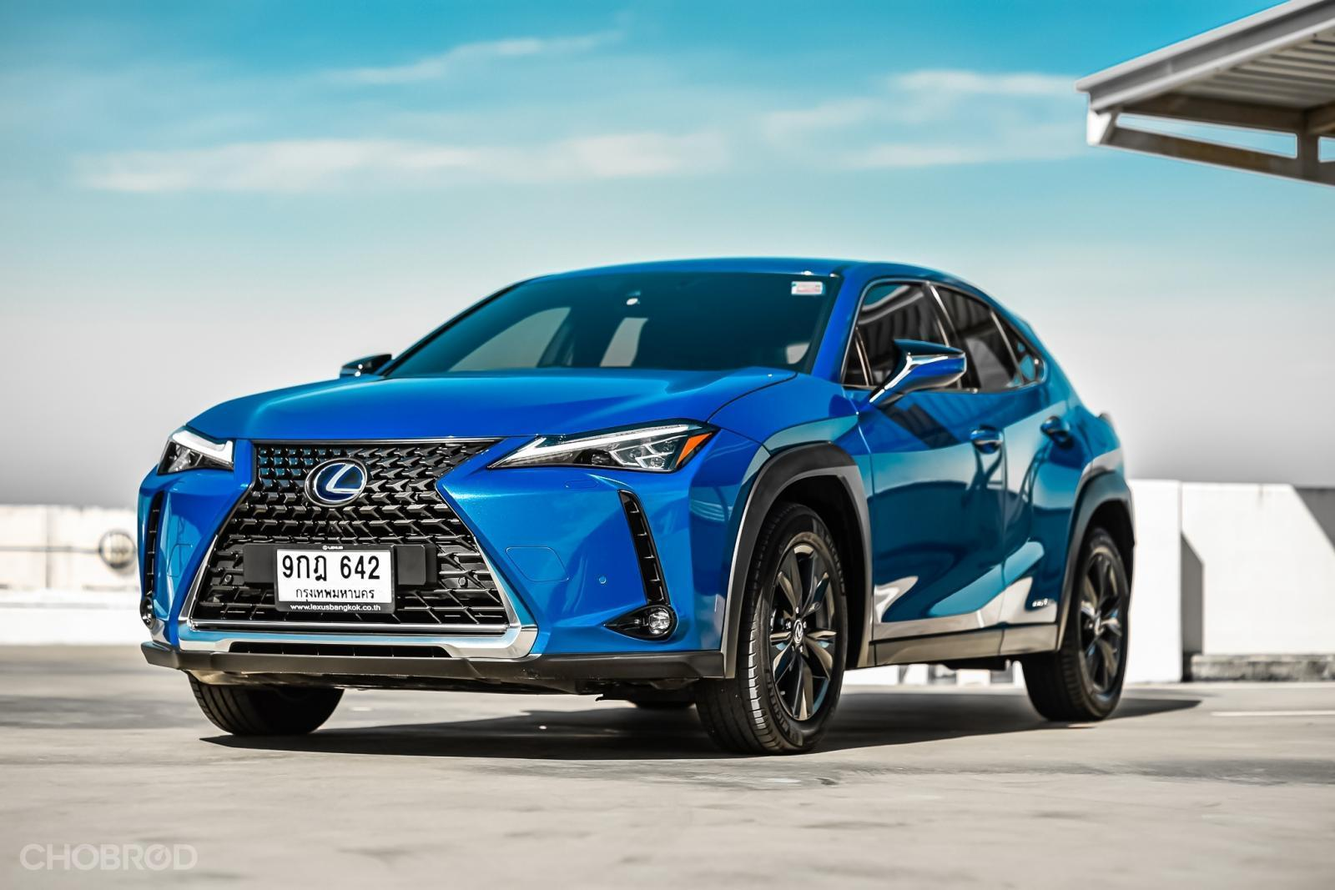license-plate: (272, 542, 402, 615)
